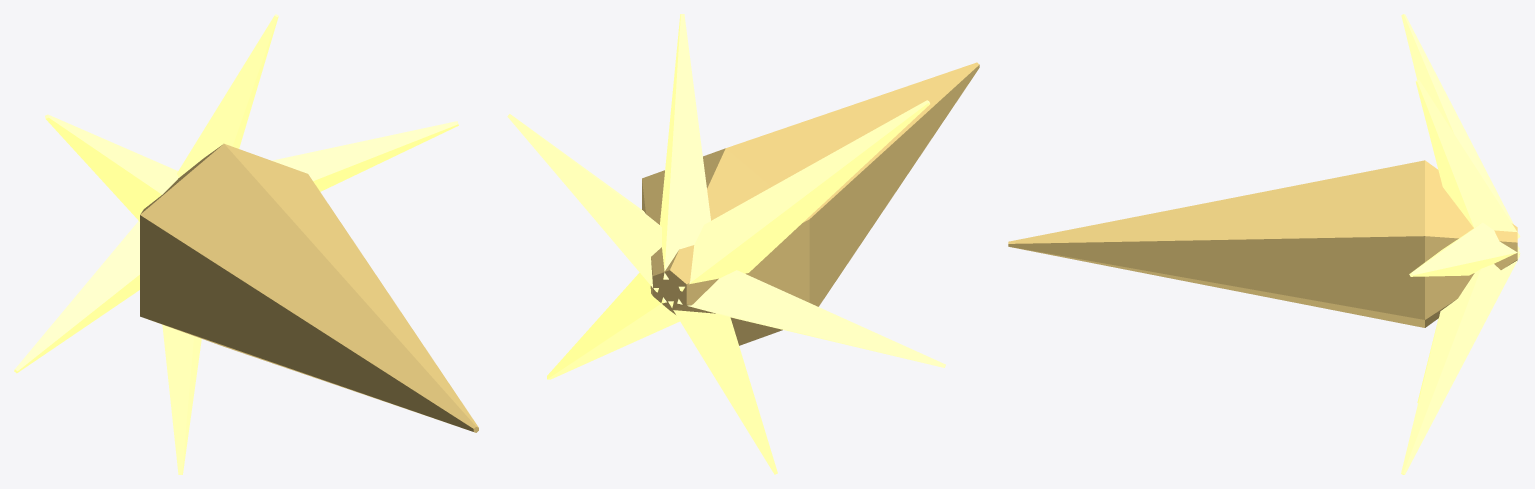
Rendered from SM_MuzzleFlash_B.fbx.
The picture shows the model from 3 angles, left to right: view 1: azimuth 30°, elevation 25°; view 2: azimuth 150°, elevation 25°; view 3: azimuth 270°, elevation 25°; orthographic projection. The views are drawn at different scales.
Parts seen in each view (by area): view 1: MuzzleFlash_B; view 2: MuzzleFlash_B; view 3: MuzzleFlash_B.
Part boxes in pixels (bbox=[...]): MuzzleFlash_B: bbox=[14, 14, 478, 474]; MuzzleFlash_B: bbox=[507, 14, 979, 474]; MuzzleFlash_B: bbox=[1008, 14, 1520, 474].
Bounding box in the file's own units: 59.13 × 71.89 × 56.09.
